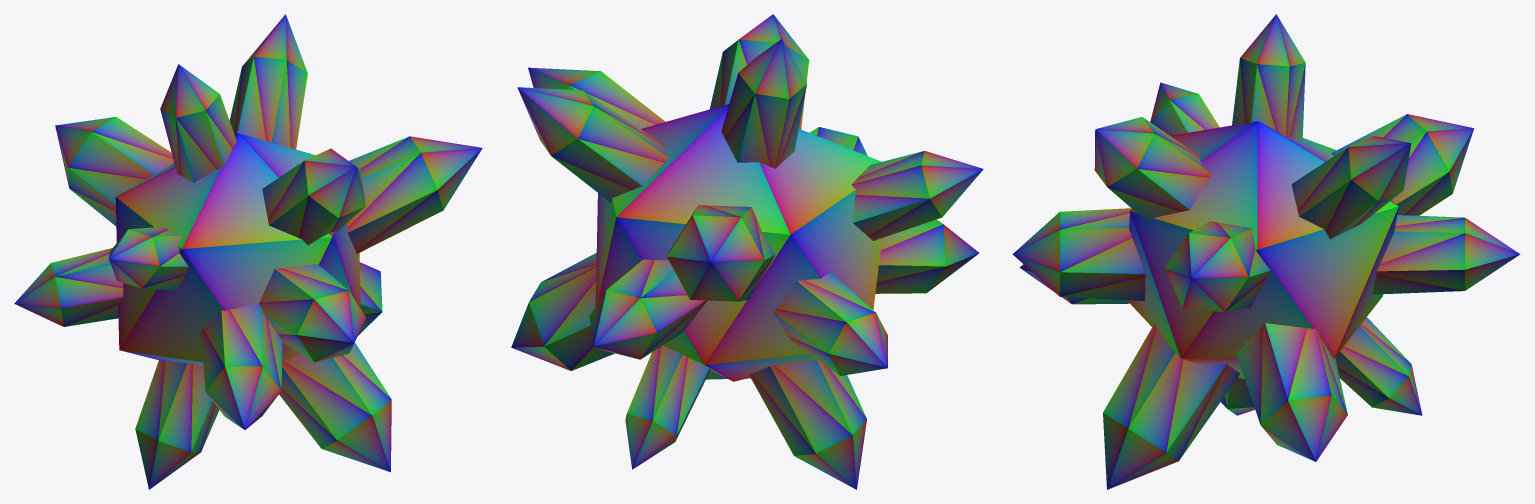
The model's file is SM_CorruptShard.fbx.
3 views of the same model, side by side, from view 1: azimuth 30°, elevation 25°; view 2: azimuth 150°, elevation 25°; view 3: azimuth 270°, elevation 25° (orthographic). The views are drawn at different scales.
Parts seen in each view (by area): view 1: SM_CorruptShard; view 2: SM_CorruptShard; view 3: SM_CorruptShard.
Boxes of the visible parts, x1,y1,x2,y2 form: SM_CorruptShard: (14,14,482,489); SM_CorruptShard: (511,14,983,489); SM_CorruptShard: (1012,14,1520,489).
Bounding box in the file's own units: 104 × 101 × 109.
